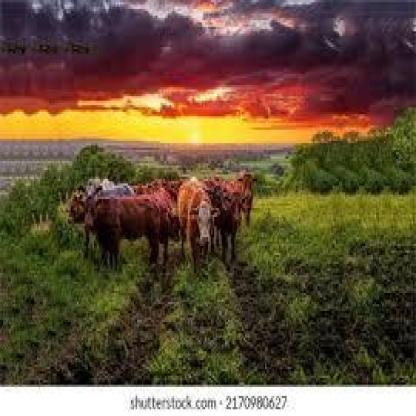cow: (97, 191, 176, 270), (178, 177, 212, 264), (214, 180, 241, 261), (65, 184, 95, 232)
